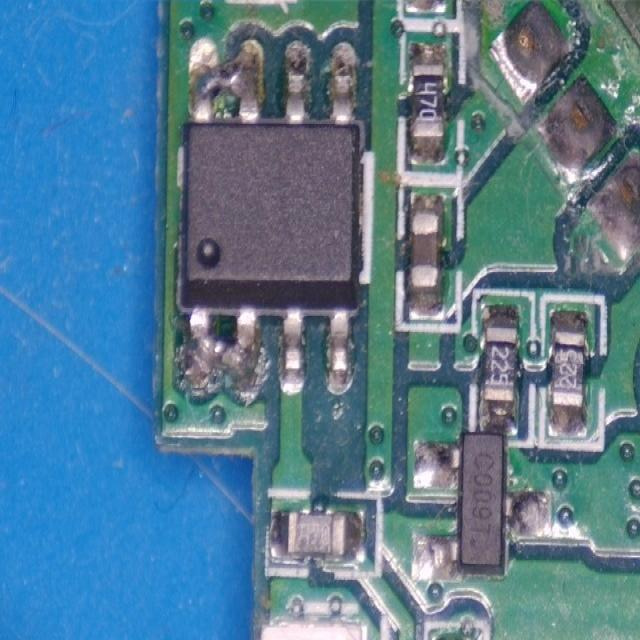Short_circuit: (180, 308, 270, 404), (194, 43, 260, 121)
